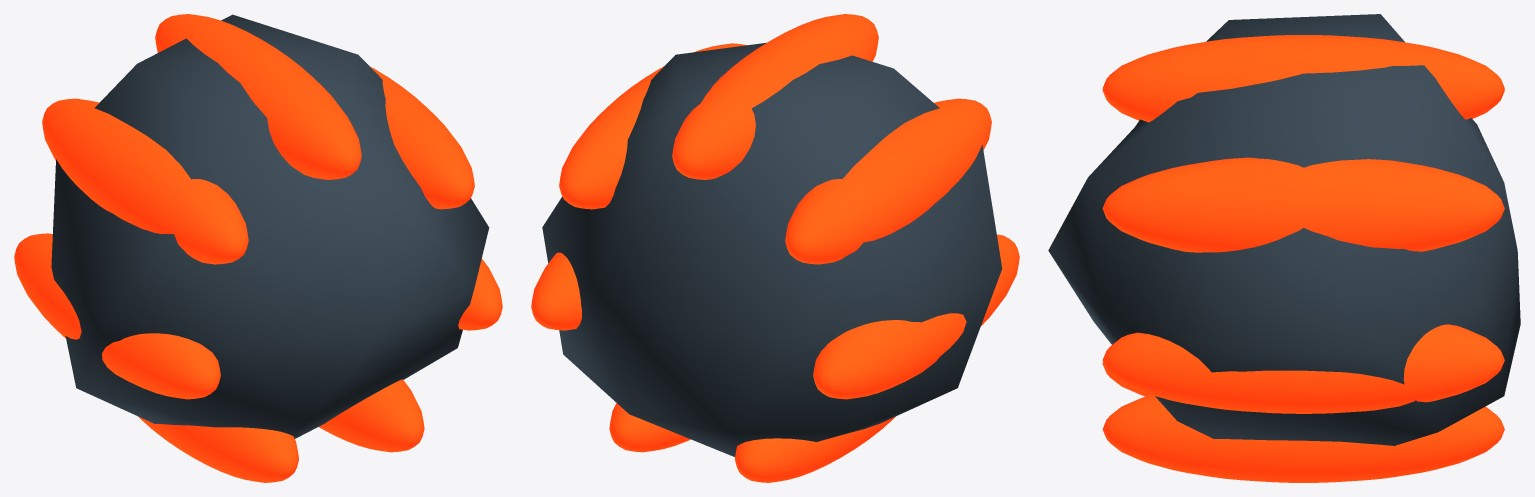
Rendered from Catapult_Special.fbx.
The picture shows the model from 3 angles, left to right: view 1: azimuth 30°, elevation 25°; view 2: azimuth 150°, elevation 25°; view 3: azimuth 270°, elevation 25°; orthographic projection. The views are drawn at different scales.
Parts seen in each view (by area): view 1: Boulder.001, Molten seam.006, Molten seam, Molten seam.005, Molten seam.001, Molten seam.004, Molten seam.003, Molten seam.002; view 2: Boulder.001, Molten seam.006, Molten seam, Molten seam.005, Molten seam.001, Molten seam.004, Molten seam.002, Molten seam.003; view 3: Boulder.001, Molten seam.001, Molten seam.002, Molten seam, Molten seam.003.
Part boxes in pixels (left/top/right/bottom): Boulder.001: left=51, top=14, right=489, bottom=438; Molten seam.006: left=42, top=98, right=248, bottom=264; Molten seam: left=155, top=14, right=361, bottom=179; Molten seam.005: left=14, top=233, right=220, bottom=399; Molten seam.001: left=369, top=66, right=474, bottom=209; Molten seam.004: left=138, top=416, right=298, bottom=482; Molten seam.003: left=319, top=379, right=424, bottom=452; Molten seam.002: left=458, top=258, right=502, bottom=330; Boulder.001: left=542, top=42, right=1002, bottom=456; Molten seam.006: left=785, top=98, right=991, bottom=264; Molten seam: left=672, top=14, right=878, bottom=179; Molten seam.005: left=813, top=234, right=1019, bottom=399; Molten seam.001: left=559, top=43, right=746, bottom=209; Molten seam.004: left=735, top=416, right=895, bottom=482; Molten seam.002: left=531, top=252, right=581, bottom=330; Molten seam.003: left=609, top=403, right=690, bottom=452; Boulder.001: left=1048, top=14, right=1520, bottom=445; Molten seam.001: left=1102, top=157, right=1504, bottom=252; Molten seam.002: left=1102, top=324, right=1504, bottom=413; Molten seam: left=1102, top=35, right=1504, bottom=122; Molten seam.003: left=1102, top=395, right=1504, bottom=482.
Size of the model in its own units: 107 by 104 by 106.
